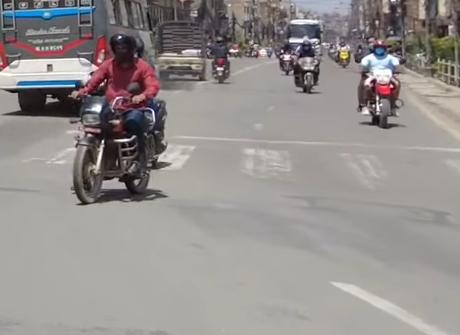bike: (67, 76, 174, 212), (356, 56, 404, 128)
